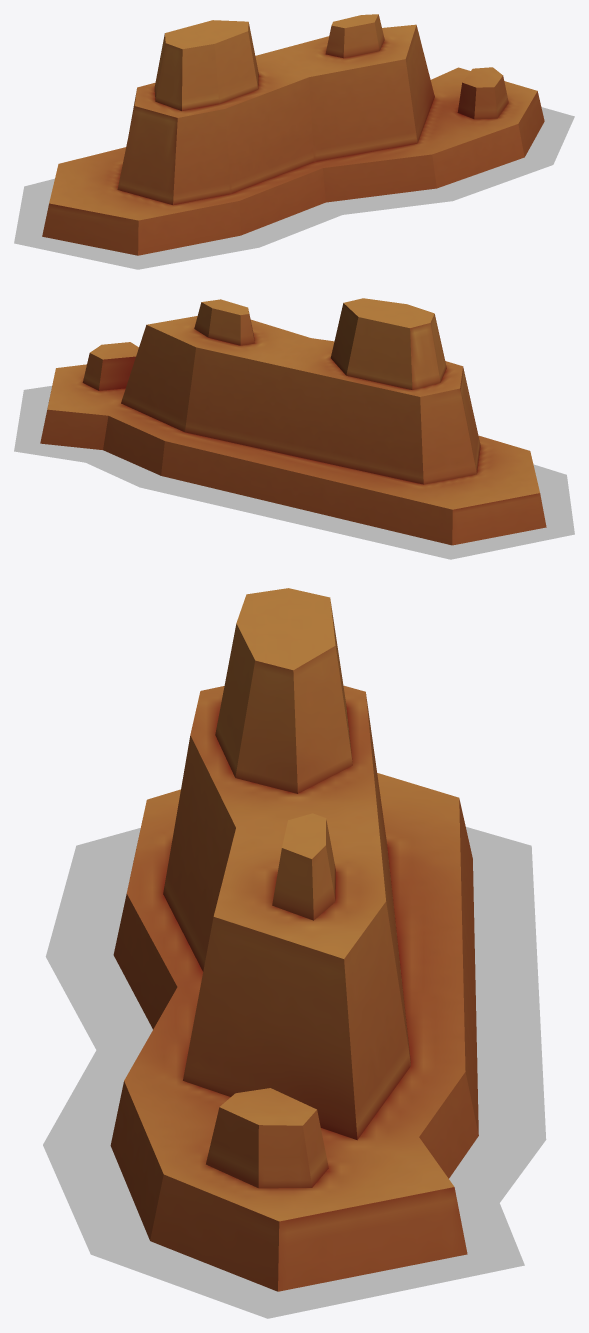
Rendered from 3x1_rock.FBX.
The picture shows the model from 3 angles, top to bottom: view 1: azimuth 30°, elevation 25°; view 2: azimuth 150°, elevation 25°; view 3: azimuth 270°, elevation 25°; orthographic projection. The views are drawn at different scales.
Parts seen in each view (by area): view 1: 3x1_rock, 3x1_rock_soft_shadow; view 2: 3x1_rock, 3x1_rock_soft_shadow; view 3: 3x1_rock, 3x1_rock_soft_shadow.
Boxes of the visible parts, box(x1,y1,x2,y2) form: 3x1_rock: box(42, 14, 544, 255); 3x1_rock_soft_shadow: box(14, 107, 574, 269); 3x1_rock: box(40, 298, 546, 545); 3x1_rock_soft_shadow: box(14, 386, 574, 559); 3x1_rock: box(110, 588, 478, 1291); 3x1_rock_soft_shadow: box(43, 827, 546, 1318).
Size of the model in its own units: 3262 by 962 by 1291.
